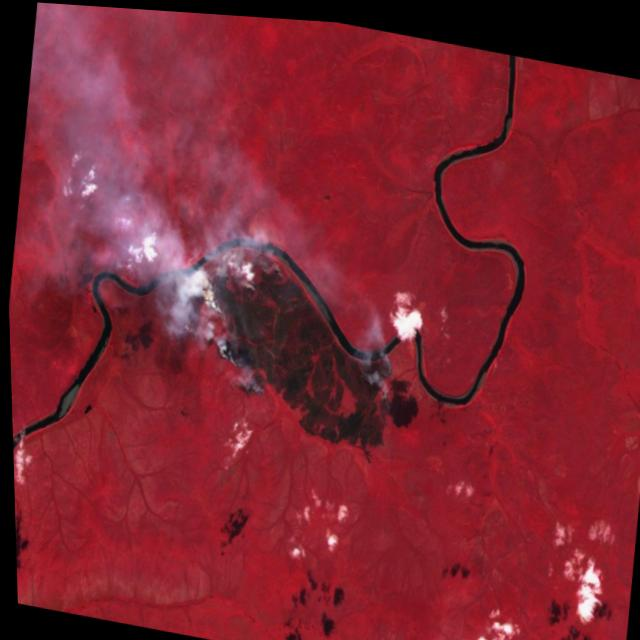fire: (149, 225, 263, 388)
